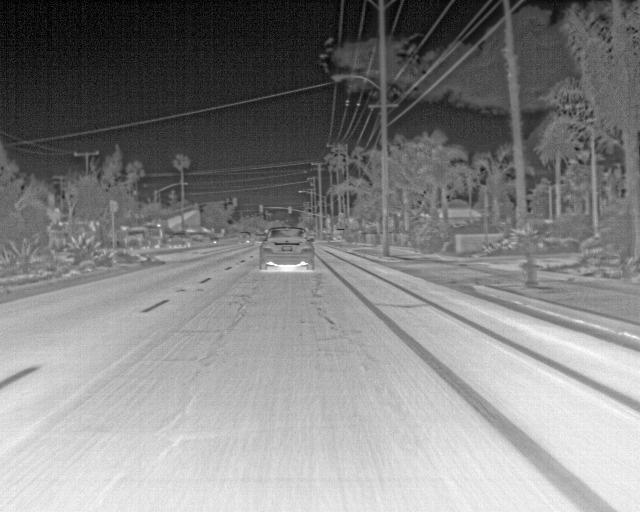car: (256, 226, 314, 271), (254, 230, 267, 242)
